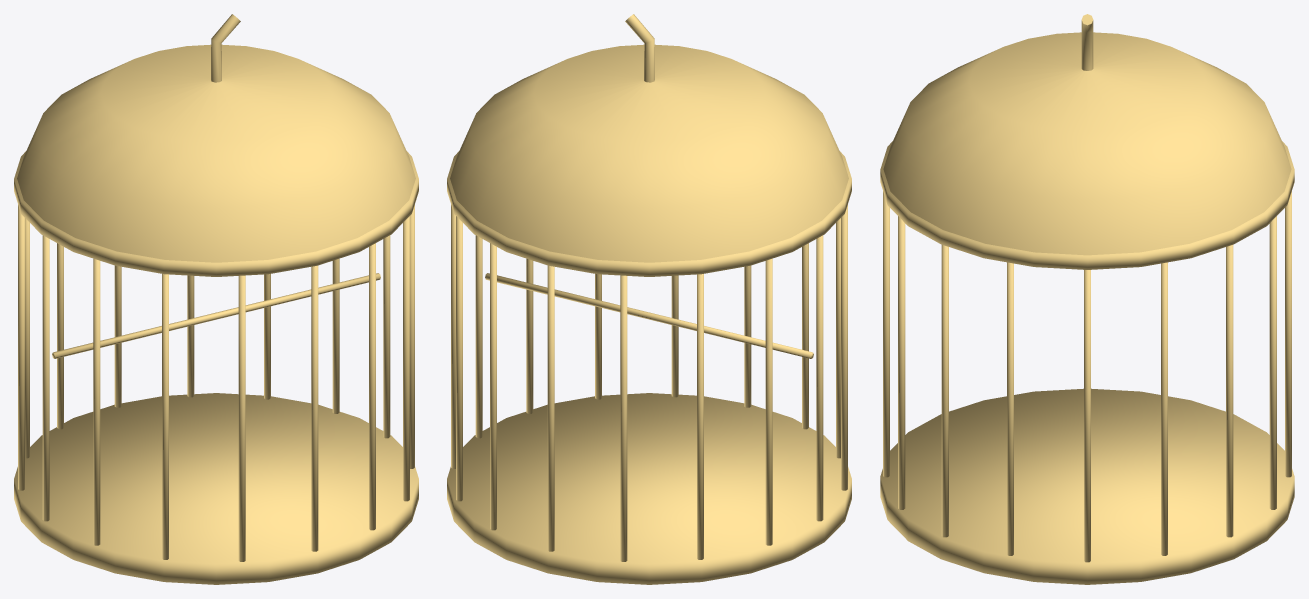
The model's file is cage.glb.
3 views of the same model, side by side, from view 1: azimuth 30°, elevation 25°; view 2: azimuth 150°, elevation 25°; view 3: azimuth 270°, elevation 25° (orthographic). The views are drawn at different scales.
Visible parts, largest first — view 1: cage; view 2: cage; view 3: cage.
Boxes of the visible parts, x1,y1,x2,y2 form: cage: [14, 14, 418, 584]; cage: [447, 14, 851, 584]; cage: [880, 14, 1294, 584].
Size of the model in its own units: 1.4 by 1.84 by 1.4.
